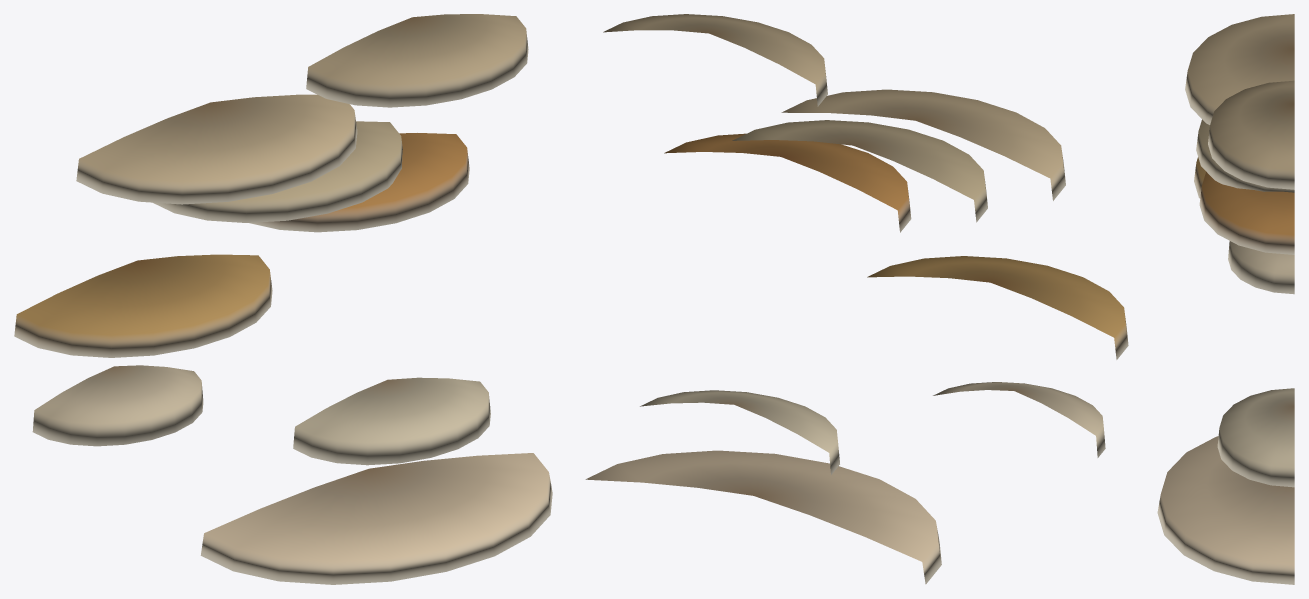
Rendered from fungus-bracket-b.lod0.glb.
3 renders of one model, left to right at view 1: azimuth 30°, elevation 25°; view 2: azimuth 150°, elevation 25°; view 3: azimuth 270°, elevation 25°, orthographic. The views are drawn at different scales.
Parts seen in each view (by area): view 1: fungus-bracket-b.lod0; view 2: fungus-bracket-b.lod0; view 3: fungus-bracket-b.lod0.
Part boxes in pixels (x1,y1,x2,y2): fungus-bracket-b.lod0: (14,14,552,584); fungus-bracket-b.lod0: (585,14,1128,584); fungus-bracket-b.lod0: (1157,14,1294,584).
Size of the model in its own units: 0.4045 by 0.3601 by 0.1046.
